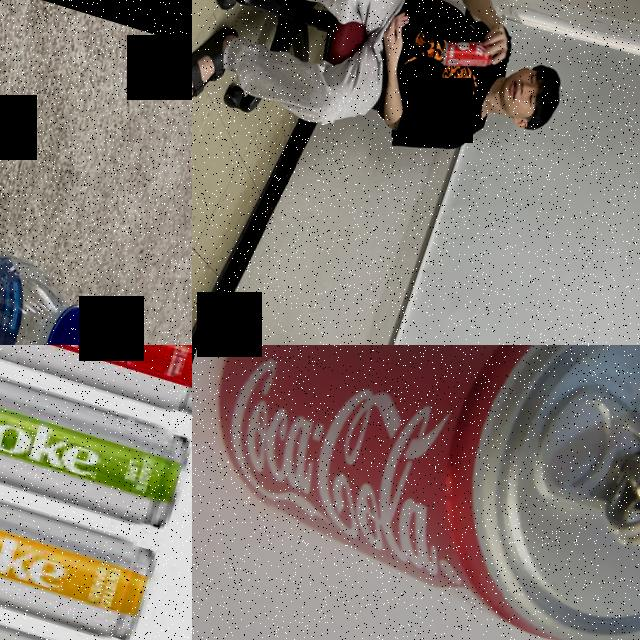bottle: (0, 194, 139, 345)
can: (192, 345, 640, 640), (0, 345, 192, 535), (0, 415, 160, 640), (0, 345, 192, 423), (0, 533, 135, 640), (436, 26, 496, 79)
